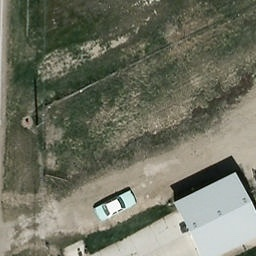car: (90, 189, 140, 223)
